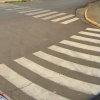crosswalks: (0, 27, 100, 100), (0, 4, 86, 28)
